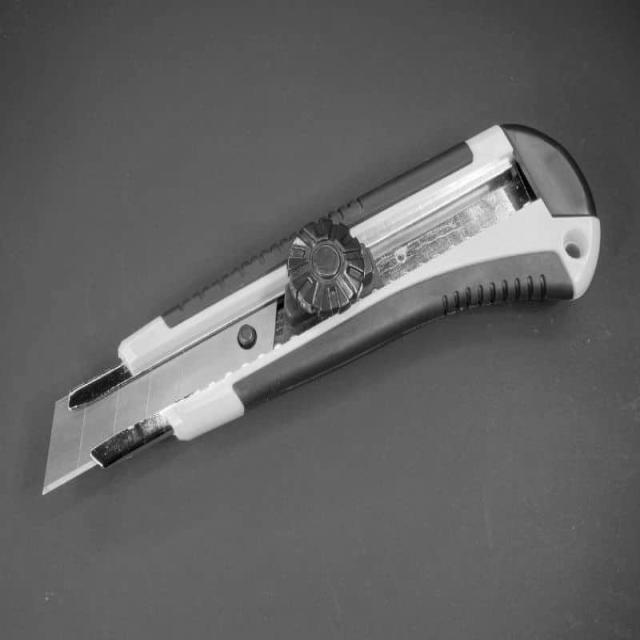utility_knife: (22, 104, 625, 538)
